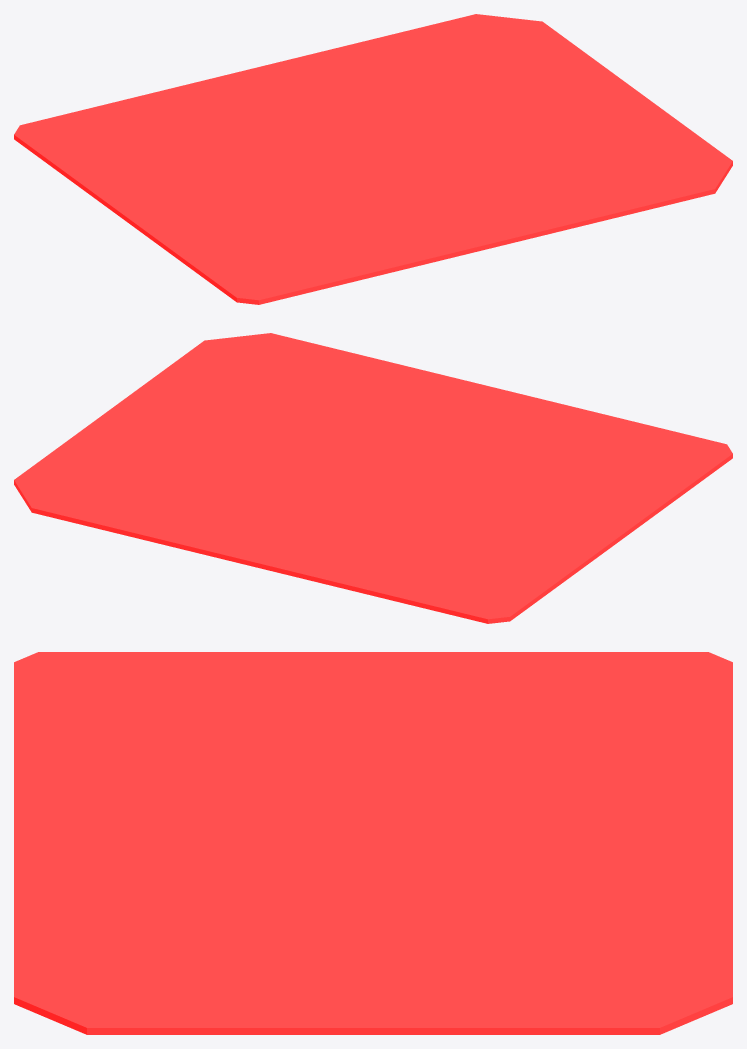
File: custom_top_plate.dae
3 views of the same model, one above another, from view 1: azimuth 30°, elevation 25°; view 2: azimuth 150°, elevation 25°; view 3: azimuth 270°, elevation 25° (orthographic). The views are drawn at different scales.
Visible parts, largest first — view 1: Top_Plate; view 2: Top_Plate; view 3: Top_Plate.
Part boxes in pixels (box(x1,y1,x2,y2)): Top_Plate: box(14, 14, 732, 304); Top_Plate: box(14, 333, 732, 623); Top_Plate: box(14, 652, 732, 1034).
Size of the model in its own units: 0.73 by 0.59 by 0.00635.
